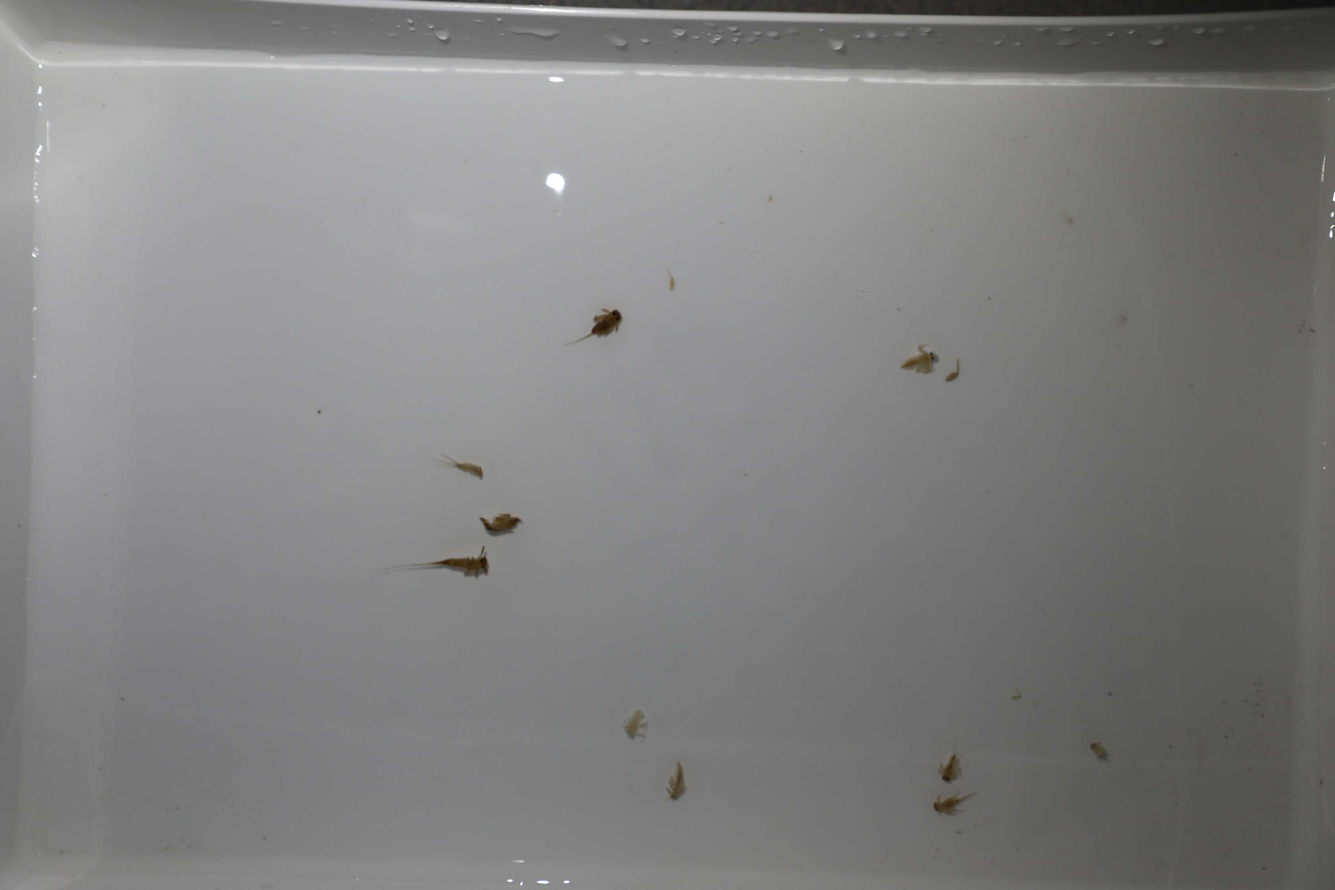Mayfly: (393, 550, 492, 581), (556, 302, 621, 347), (928, 730, 968, 784), (424, 452, 489, 485), (469, 510, 532, 538), (660, 755, 692, 801), (616, 705, 652, 745), (930, 791, 979, 816), (898, 342, 935, 370)
